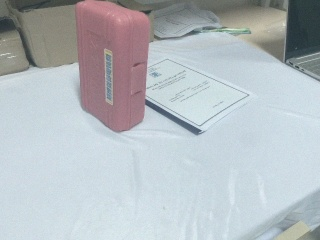box: (72, 1, 149, 134), (6, 1, 83, 68), (1, 17, 32, 82)
